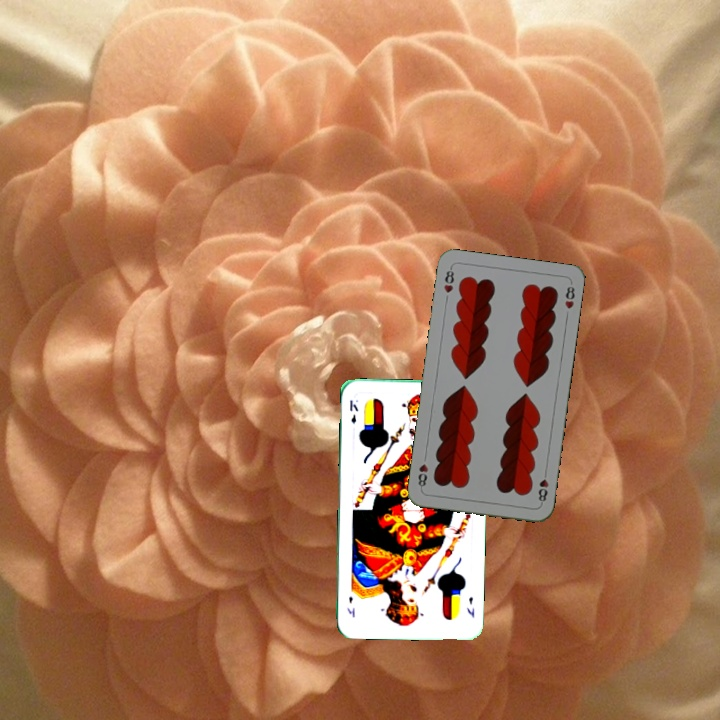EK: (346, 396, 361, 427), (463, 593, 477, 620)
H8: (534, 466, 551, 507), (440, 263, 456, 295)
